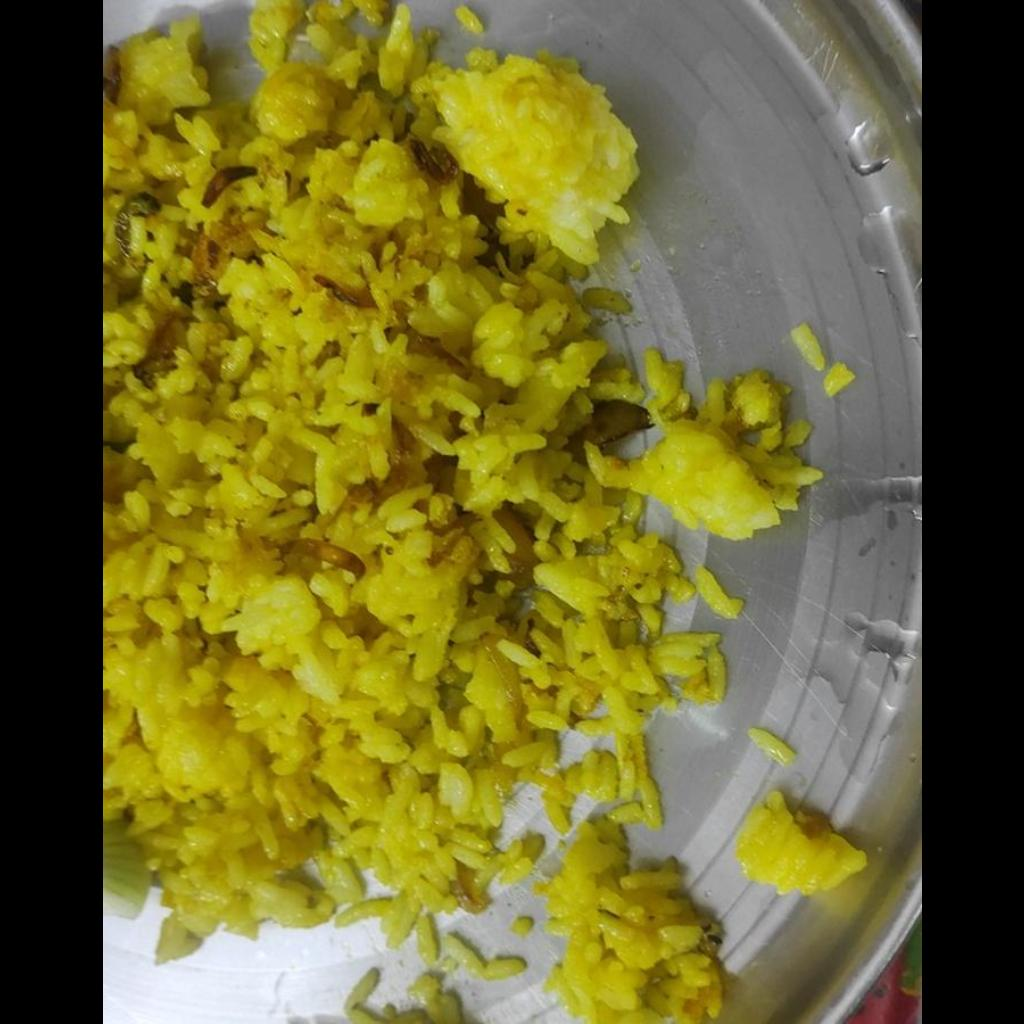khichuri: (104, 2, 821, 982)
